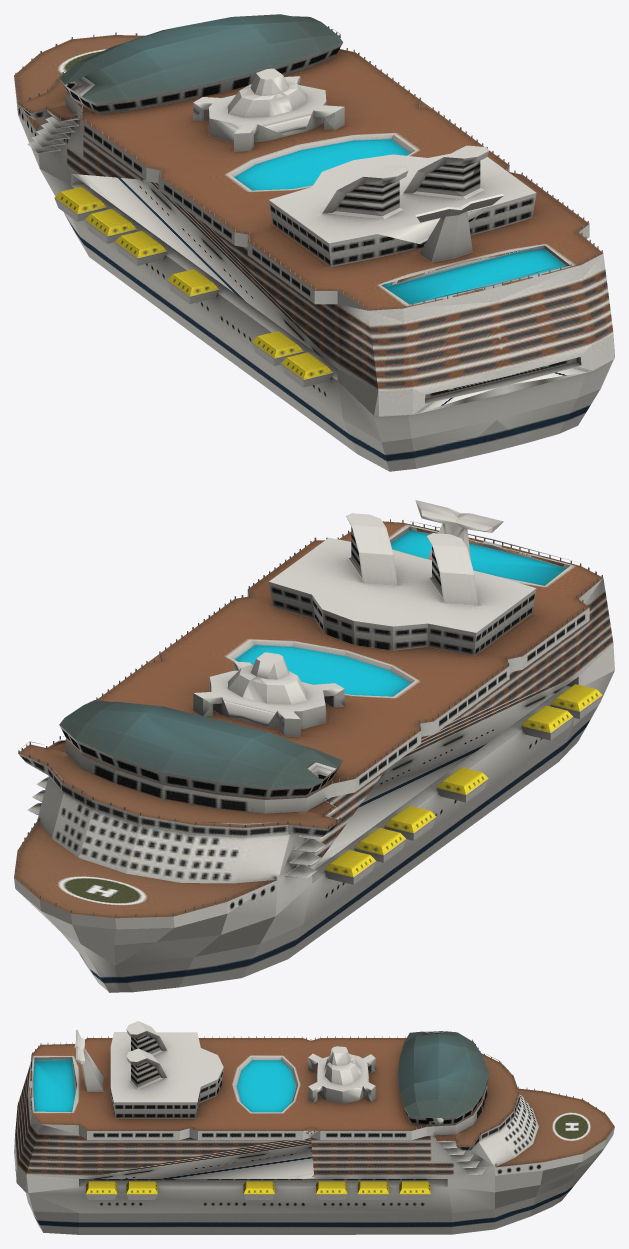
The model's file is mare-mansa-balanced.v1.glb.
The picture shows the model from 3 angles, top to bottom: view 1: azimuth 30°, elevation 25°; view 2: azimuth 150°, elevation 25°; view 3: azimuth 270°, elevation 25°; orthographic projection. The views are drawn at different scales.
Parts seen in each view (by area): view 1: Maré Mansa; view 2: Maré Mansa; view 3: Maré Mansa.
Boxes of the visible parts, x1,y1,x2,y2 form: Maré Mansa: (14,14,614,471); Maré Mansa: (14,500,614,992); Maré Mansa: (14,1021,614,1234).
Size of the model in its own units: 2.65 by 1.91 by 6.4.
1 material, 1 textured.
